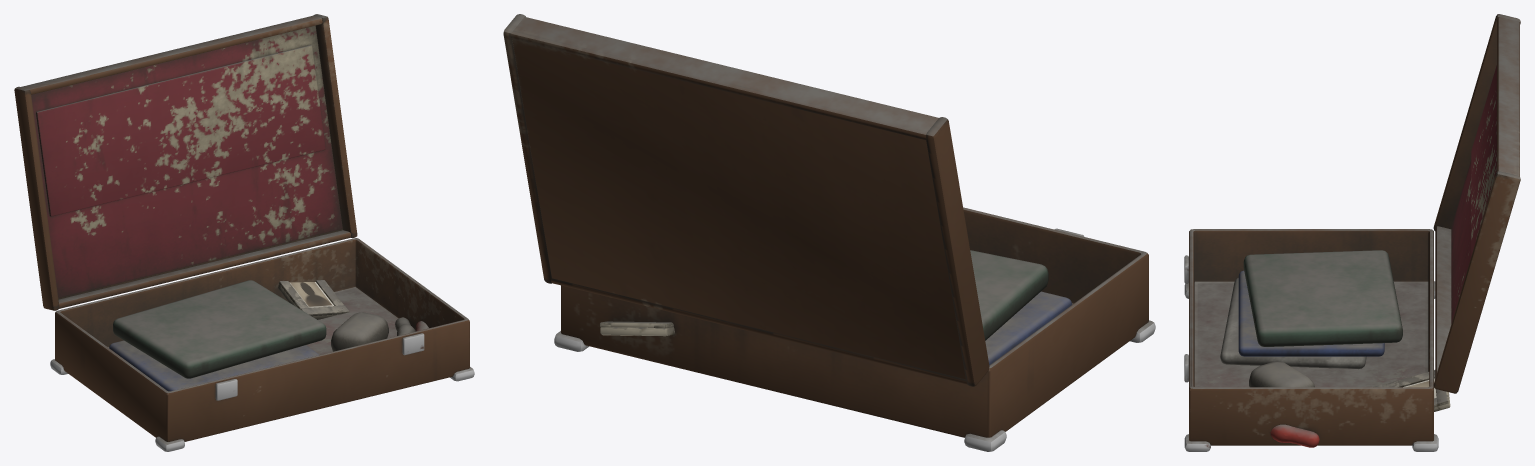
File: SM_Suitcase_Open.fbx
3 views of the same model, side by side, from view 1: azimuth 30°, elevation 25°; view 2: azimuth 150°, elevation 25°; view 3: azimuth 270°, elevation 25° (orthographic). The views are drawn at different scales.
Visible parts, largest first — view 1: SM_Suitcase_Open; view 2: SM_Suitcase_Open; view 3: SM_Suitcase_Open.
Part boxes in pixels (bbox=[...]): SM_Suitcase_Open: bbox=[14, 14, 474, 451]; SM_Suitcase_Open: bbox=[503, 14, 1155, 451]; SM_Suitcase_Open: bbox=[1184, 14, 1520, 451].
Size of the model in its own units: 0.6861 by 0.5265 by 0.5761.
1 material, 1 textured.
